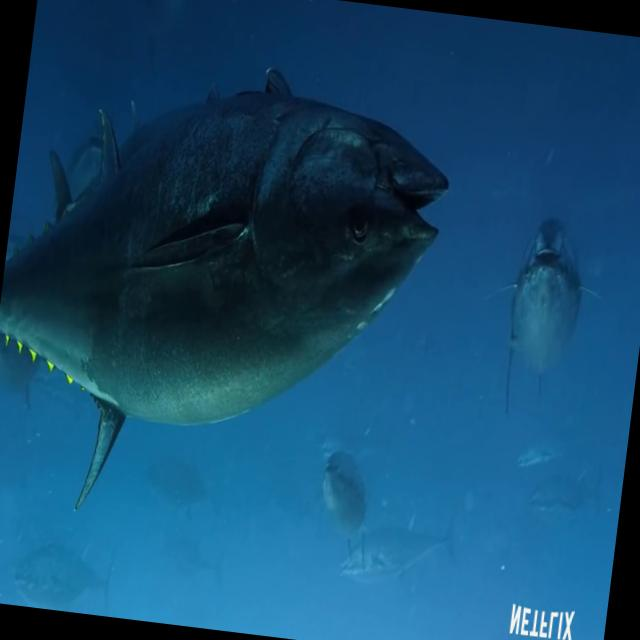fish: (0, 39, 464, 553), (488, 200, 610, 432), (326, 478, 479, 614), (302, 436, 374, 560)
